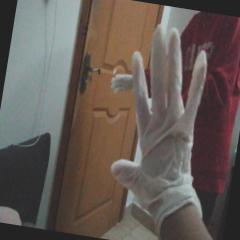gloved: (106, 21, 213, 210), (110, 73, 134, 96)
